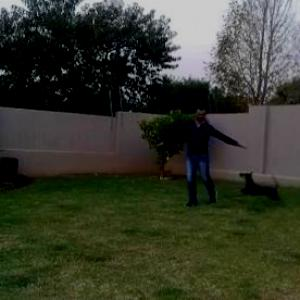land: (162, 102, 241, 197)
